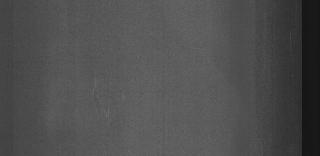silk spot: (80, 77, 134, 127)
